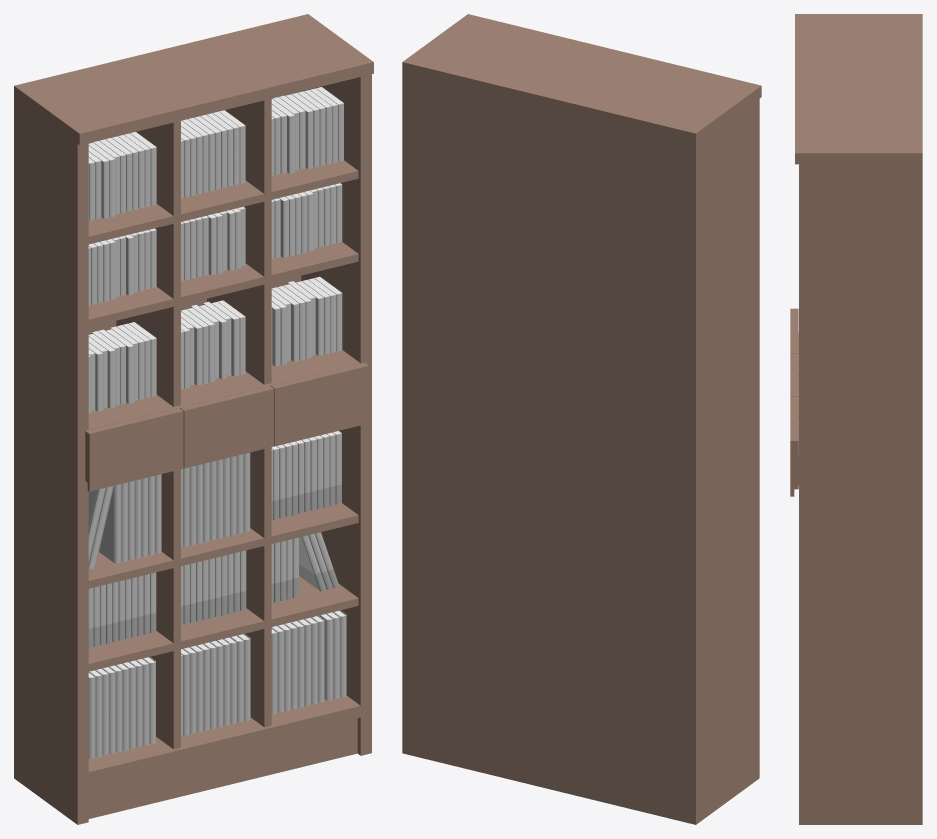
File: 744_bookshelf_filled.glb
The picture shows the model from 3 angles, left to right: view 1: azimuth 30°, elevation 25°; view 2: azimuth 150°, elevation 25°; view 3: azimuth 270°, elevation 25°; orthographic projection. The views are drawn at different scales.
Parts seen in each view (by area): view 1: body, drawer_left, drawer_right, drawer_center; view 2: body; view 3: body, drawer_right, drawer_left, drawer_center.
Part boxes in pixels (x1,y1,x2,y2): body: [14, 14, 373, 824]; drawer_left: [85, 408, 183, 491]; drawer_right: [271, 362, 368, 446]; drawer_center: [180, 386, 274, 468]; body: [402, 14, 761, 824]; body: [795, 14, 922, 824]; drawer_right: [790, 396, 798, 496]; drawer_left: [790, 308, 798, 375]; drawer_center: [790, 353, 798, 418].
Size of the model in its own units: 0.8 by 1.8 by 0.321.
